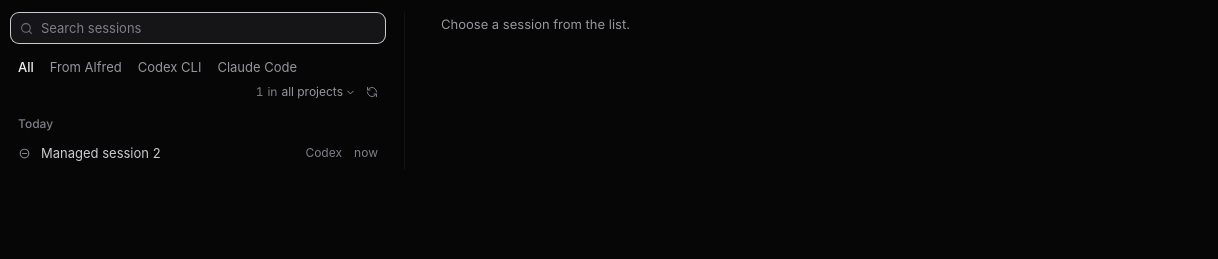
it: SessionsSurface › uses restored initialBuffer without requesting a live snapshot
Click the option "Managed session 2 Codex now". click: point(101, 153)
box: top-left (8, 136), bottom-right (388, 170)
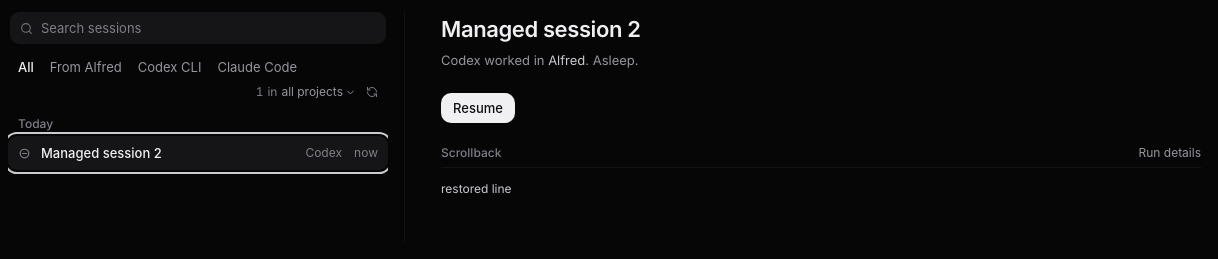
Expected: the element "Managed session 2" shows "restored line", top-left (441, 181), bottom-right (512, 196)
